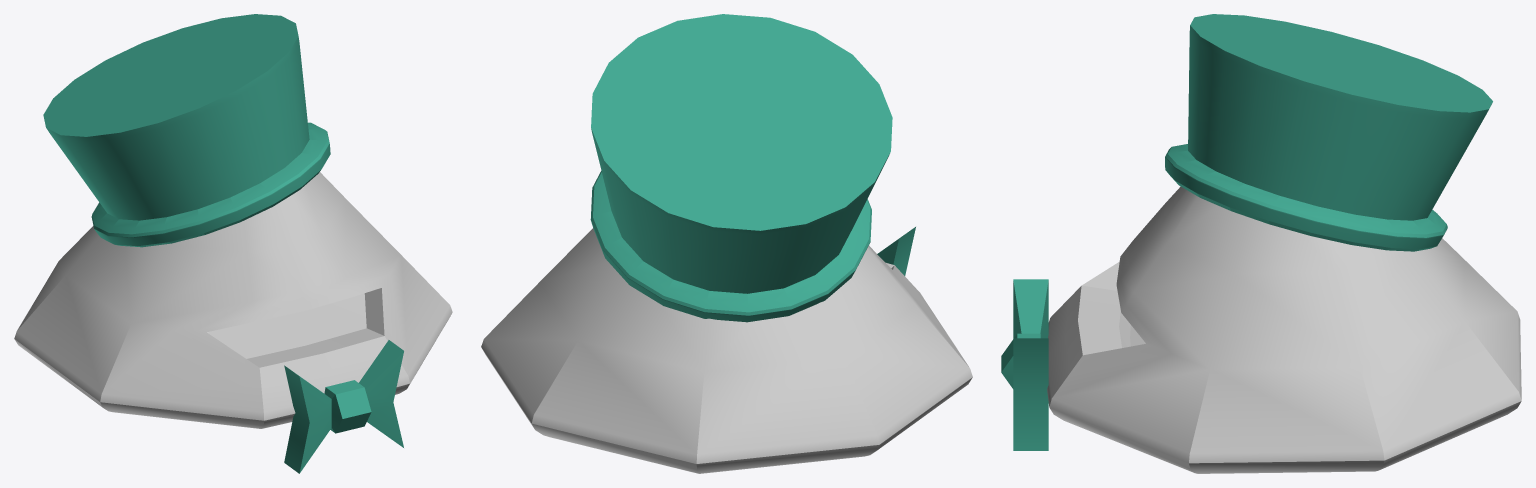
File: Triangle_Yellowish_Skin.fbx
The picture shows the model from 3 angles, left to right: view 1: azimuth 30°, elevation 25°; view 2: azimuth 150°, elevation 25°; view 3: azimuth 270°, elevation 25°; orthographic projection. The views are drawn at different scales.
Parts seen in each view (by area): view 1: Triangle_Yellowish_Skin_head, Triangle_Yellowish_Skin_hat, Triangle_Yellowish_Skin_ribbon; view 2: Triangle_Yellowish_Skin_hat, Triangle_Yellowish_Skin_head, Triangle_Yellowish_Skin_ribbon; view 3: Triangle_Yellowish_Skin_head, Triangle_Yellowish_Skin_hat, Triangle_Yellowish_Skin_ribbon.
Part boxes in pixels (x1,y1,x2,y2): Triangle_Yellowish_Skin_head: (14,172,452,428); Triangle_Yellowish_Skin_hat: (43,14,330,247); Triangle_Yellowish_Skin_ribbon: (284,340,403,473); Triangle_Yellowish_Skin_hat: (590,14,892,322); Triangle_Yellowish_Skin_head: (481,228,972,473); Triangle_Yellowish_Skin_ribbon: (877,227,915,275); Triangle_Yellowish_Skin_head: (1047,186,1521,473); Triangle_Yellowish_Skin_hat: (1165,14,1492,251); Triangle_Yellowish_Skin_ribbon: (1001,279,1048,450).
Size of the model in its own units: 20.45 by 18.4 by 22.46.
